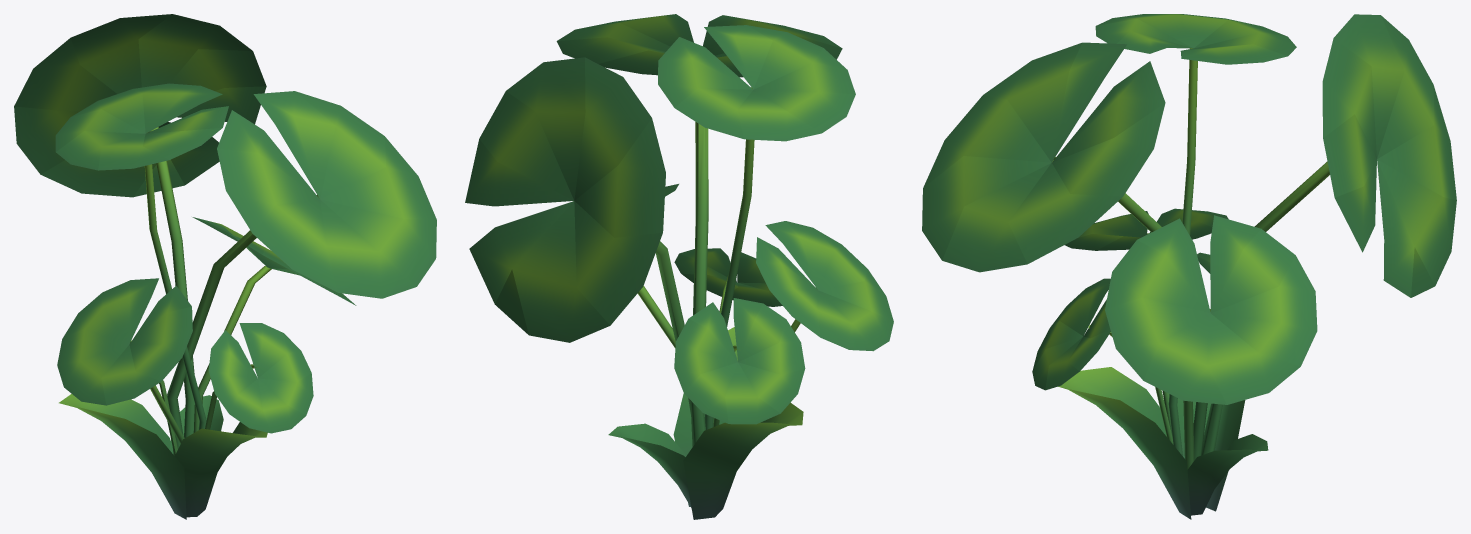
The model's file is plant_22.fbx.
3 views of the same model, side by side, from view 1: azimuth 30°, elevation 25°; view 2: azimuth 150°, elevation 25°; view 3: azimuth 270°, elevation 25° (orthographic). The views are drawn at different scales.
Parts seen in each view (by area): view 1: plant_22; view 2: plant_22; view 3: plant_22.
Boxes of the visible parts, x1=… form: plant_22: x1=14, y1=14, x2=436, y2=519; plant_22: x1=465, y1=14, x2=893, y2=519; plant_22: x1=922, y1=14, x2=1456, y2=519.
Bounding box in the file's own units: 3.05 × 4.06 × 3.95.
